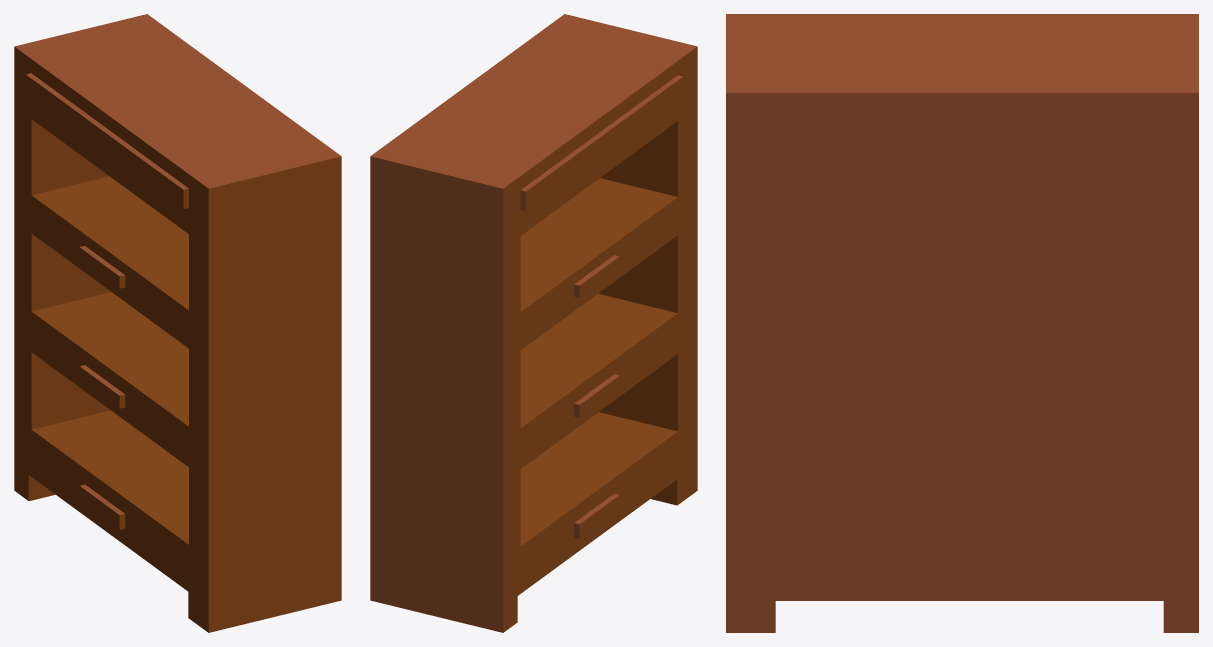
Rendered from Cabinet.dae.
3 renders of one model, left to right at view 1: azimuth 30°, elevation 25°; view 2: azimuth 150°, elevation 25°; view 3: azimuth 270°, elevation 25°, orthographic. The views are drawn at different scales.
Parts seen in each view (by area): view 1: Cabinet (×10); view 2: Cabinet (×10); view 3: Cabinet.
Part boxes in pixels (box(x1,y1,x2,y2)): Cabinet (×10): box(14, 14, 341, 632); Cabinet (×10): box(370, 14, 697, 632); Cabinet: box(726, 14, 1198, 632).
Size of the model in its own units: 32.84 by 79.85 by 101.
